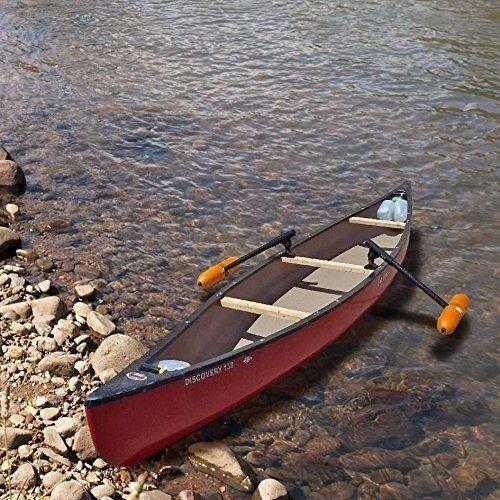kayak: (83, 187, 415, 470)
